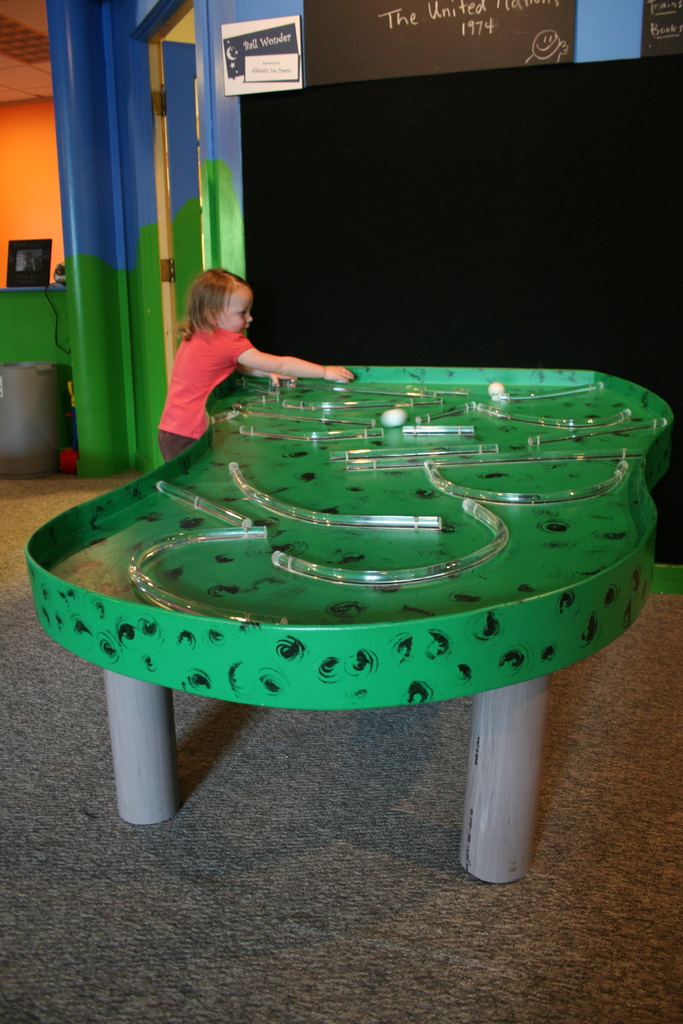face: (193, 272, 253, 337)
person: (153, 261, 358, 477)
